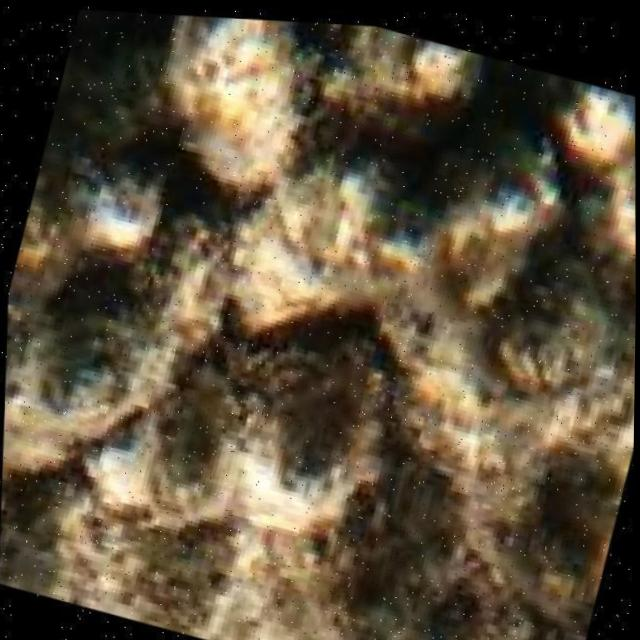Dead Coral: (0, 50, 639, 607)
